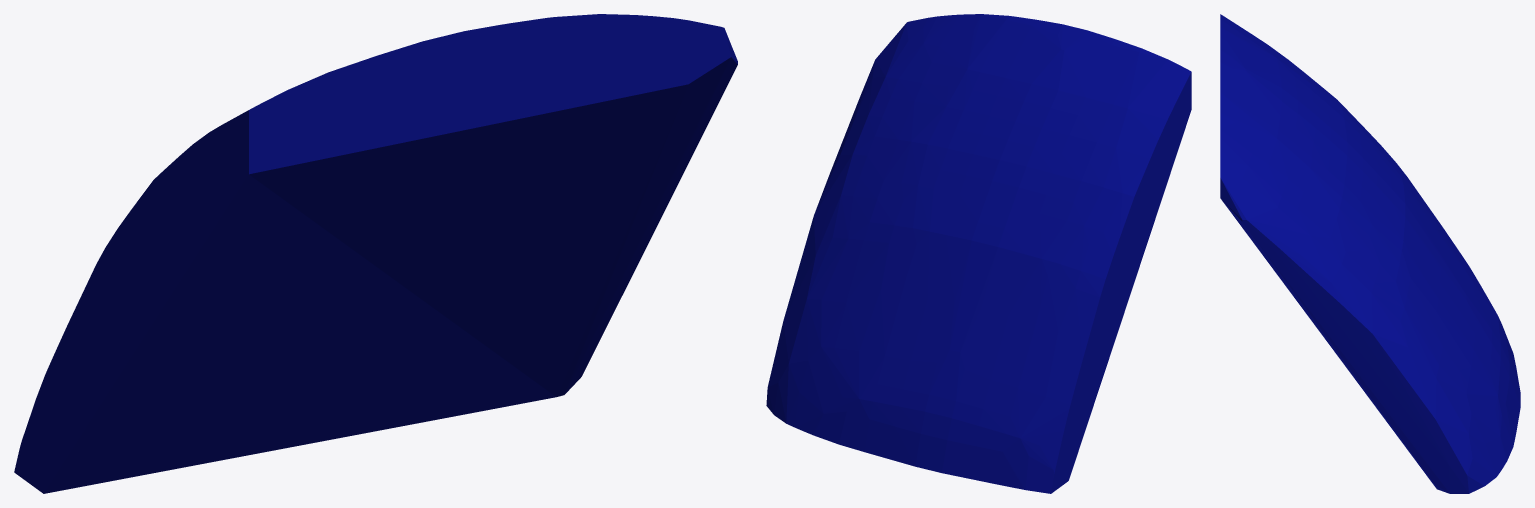
File: left-shoulder-pitch-0_part_68.obj
The picture shows the model from 3 angles, left to right: view 1: azimuth 30°, elevation 25°; view 2: azimuth 150°, elevation 25°; view 3: azimuth 270°, elevation 25°; orthographic projection. The views are drawn at different scales.
Size of the model in its own units: 0.0236 by 0.0249 by 0.0197.
